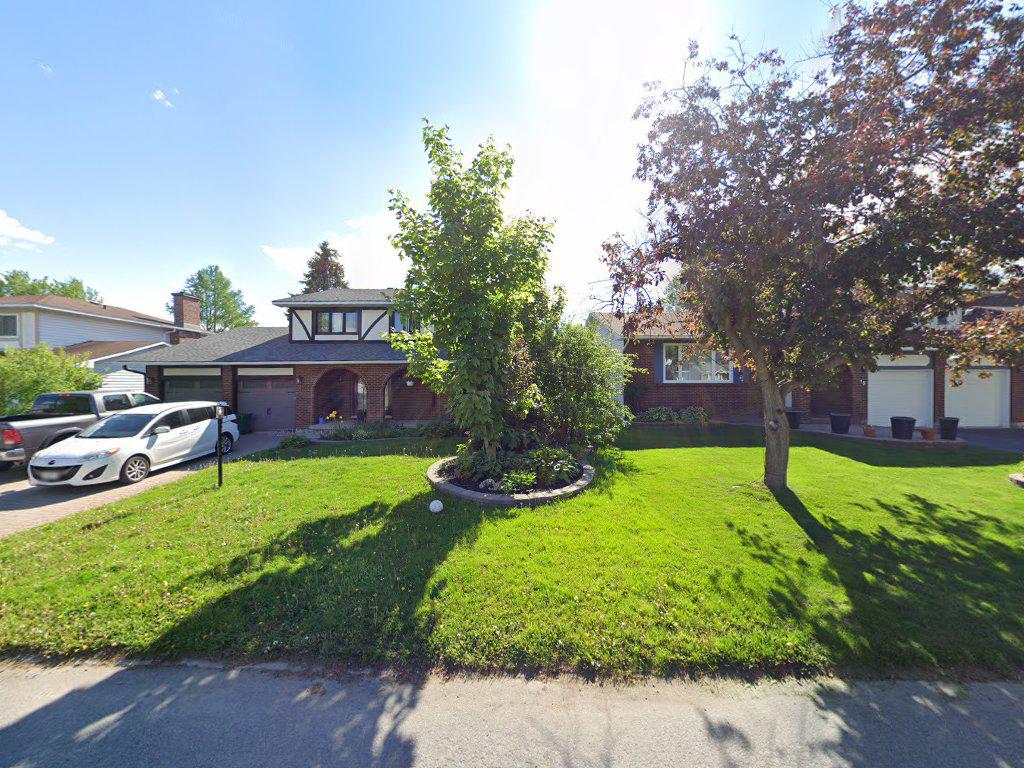trunk: (754, 355, 799, 509)
